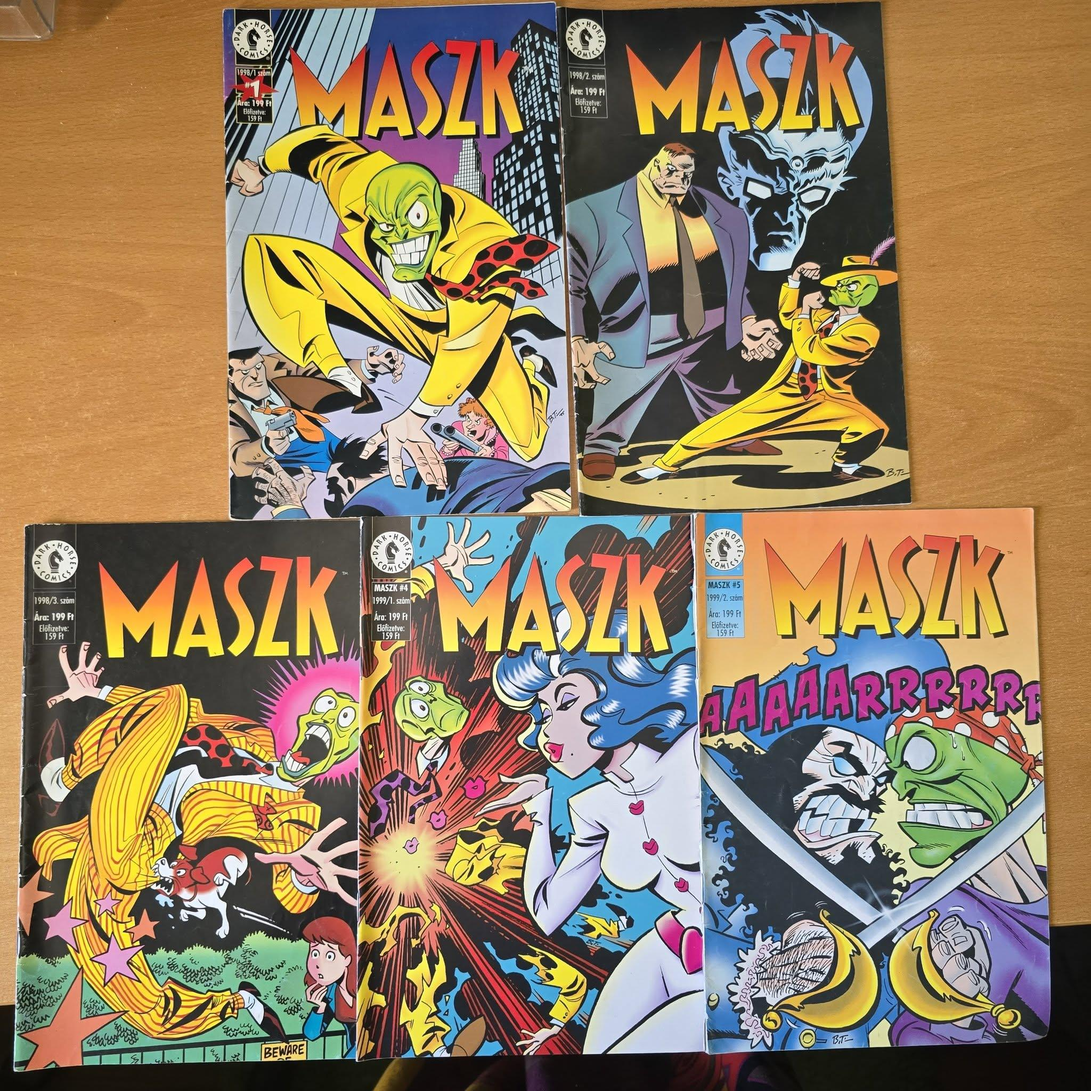comic: (0, 0, 1050, 1069), (2, 502, 1051, 1069), (14, 513, 367, 1076), (695, 506, 1052, 1051), (352, 514, 705, 1057), (558, 0, 910, 515), (222, 3, 572, 519)
